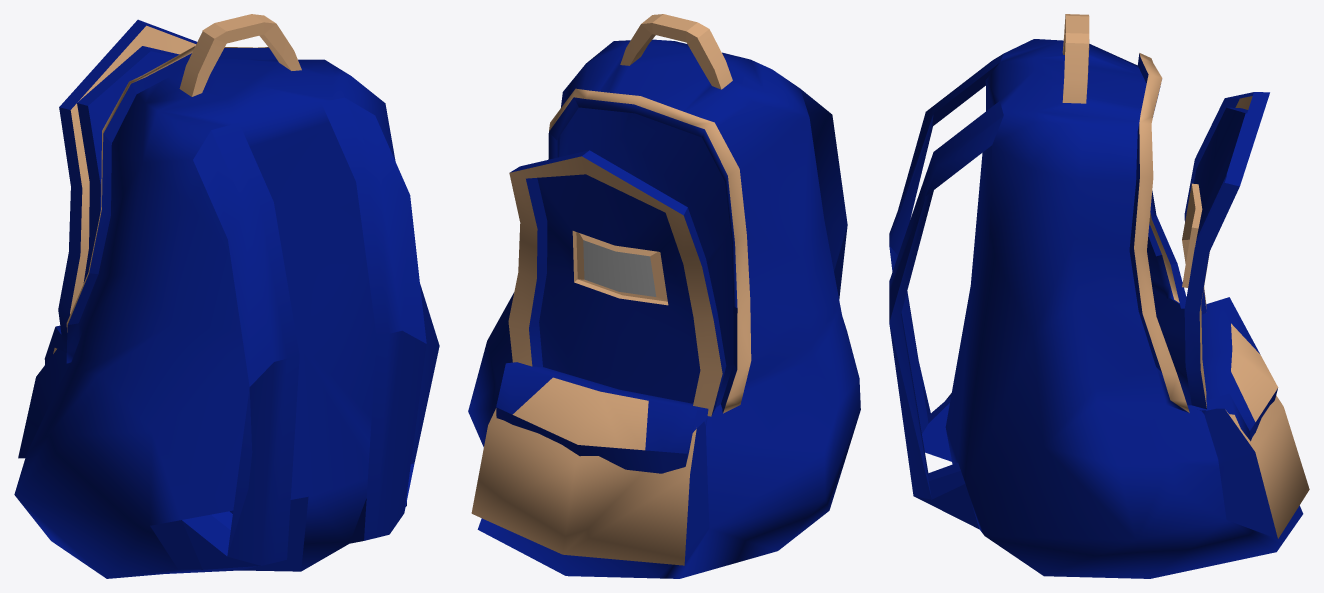
File: Backpack.fbx
The picture shows the model from 3 angles, left to right: view 1: azimuth 30°, elevation 25°; view 2: azimuth 150°, elevation 25°; view 3: azimuth 270°, elevation 25°; orthographic projection. The views are drawn at different scales.
Visible parts, largest first — view 1: Backpack1; view 2: Backpack1; view 3: Backpack1.
Part boxes in pixels (x1,y1,x2,y2): Backpack1: (14,14,439,578); Backpack1: (468,14,860,578); Backpack1: (889,14,1309,578).
Size of the model in its own units: 5.03 by 6.57 by 4.96.
